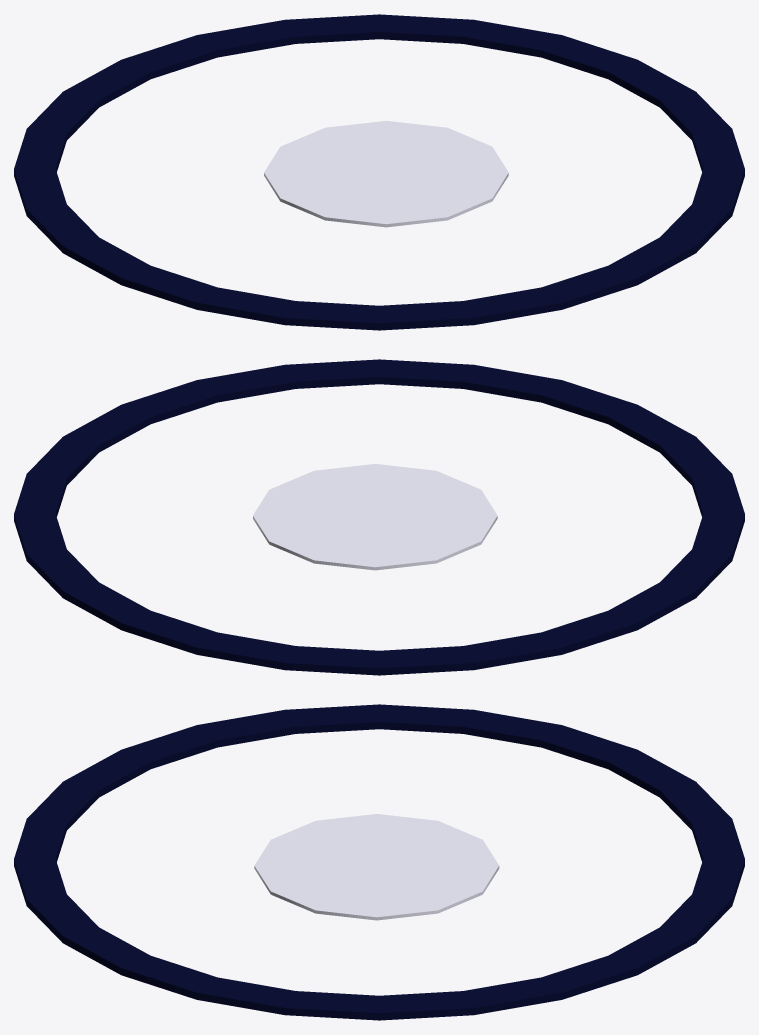
Rendered from Cutscene_floor 1.fbx.
The picture shows the model from 3 angles, top to bottom: view 1: azimuth 30°, elevation 25°; view 2: azimuth 150°, elevation 25°; view 3: azimuth 270°, elevation 25°; orthographic projection.
Parts seen in each view (by area): view 1: Shape001; view 2: Shape001; view 3: Shape001.
Part boxes in pixels (x1,y1,x2,y2): Shape001: [14, 14, 744, 330]; Shape001: [14, 359, 744, 675]; Shape001: [14, 704, 744, 1020].
Size of the model in its own units: 261 by 2.83 by 261.
